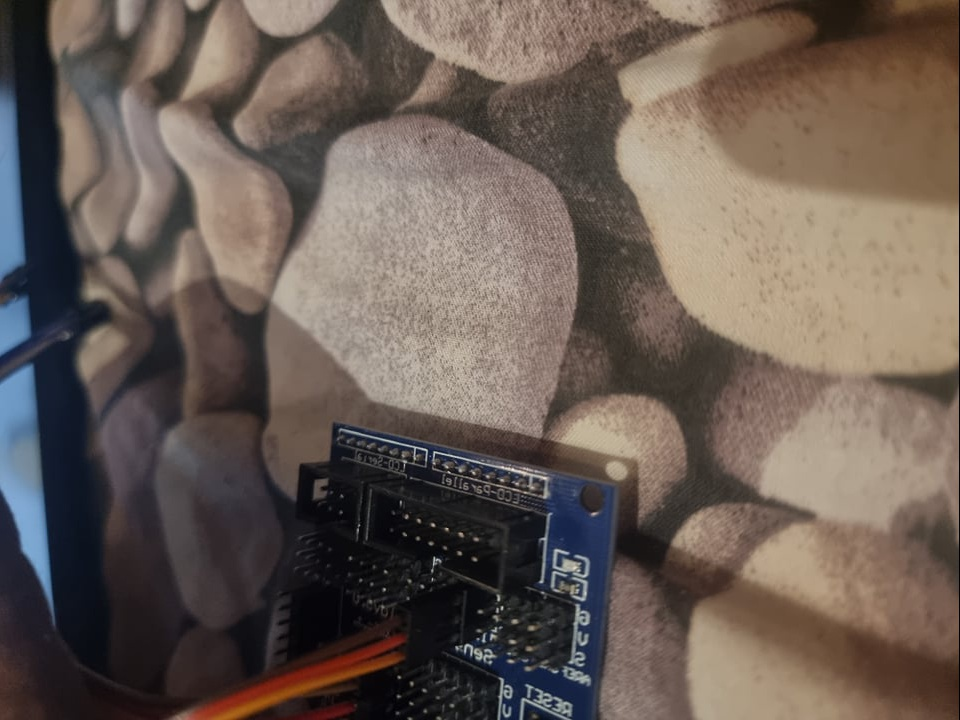5V EXPANSION: (275, 425, 622, 720)
